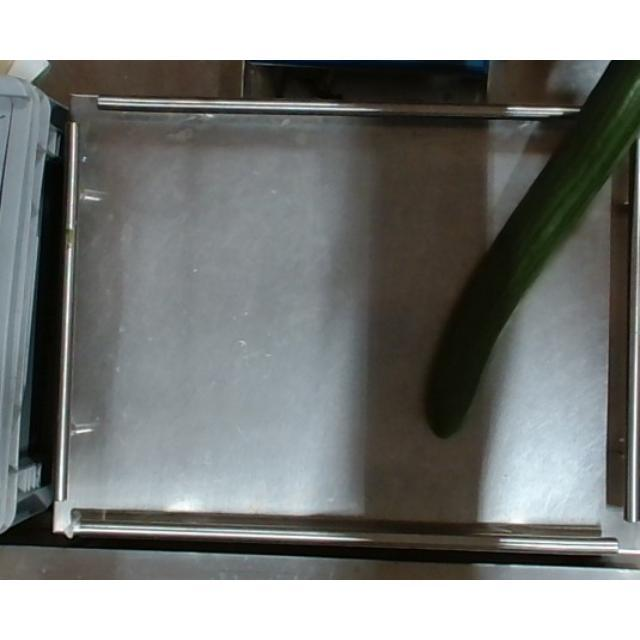cucumber: (418, 66, 640, 442)
